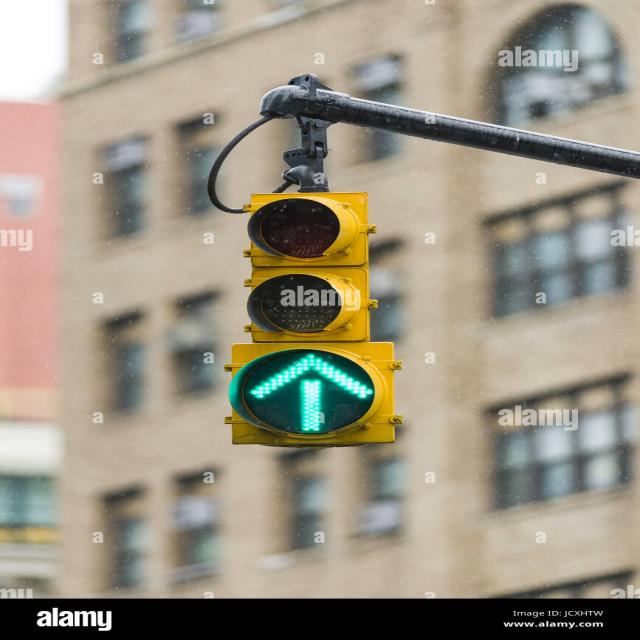green: (250, 346, 369, 436)
